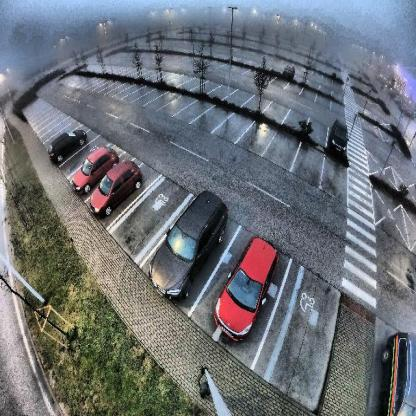free: (284, 283, 326, 386), (127, 181, 168, 251), (300, 138, 324, 186), (272, 132, 292, 172), (68, 142, 92, 173), (330, 158, 347, 200), (246, 123, 265, 157), (290, 108, 312, 132), (310, 108, 326, 141), (204, 103, 218, 138), (225, 114, 240, 141), (230, 82, 246, 106), (185, 98, 200, 123), (248, 93, 267, 112), (268, 102, 286, 122), (154, 88, 167, 113), (169, 100, 181, 121), (183, 75, 196, 91), (203, 81, 214, 96), (218, 82, 229, 97), (176, 72, 185, 87), (193, 79, 203, 91)
occupied: (153, 199, 234, 292), (218, 231, 280, 337), (98, 160, 144, 217), (78, 147, 114, 195), (48, 120, 84, 161), (327, 111, 352, 156)
